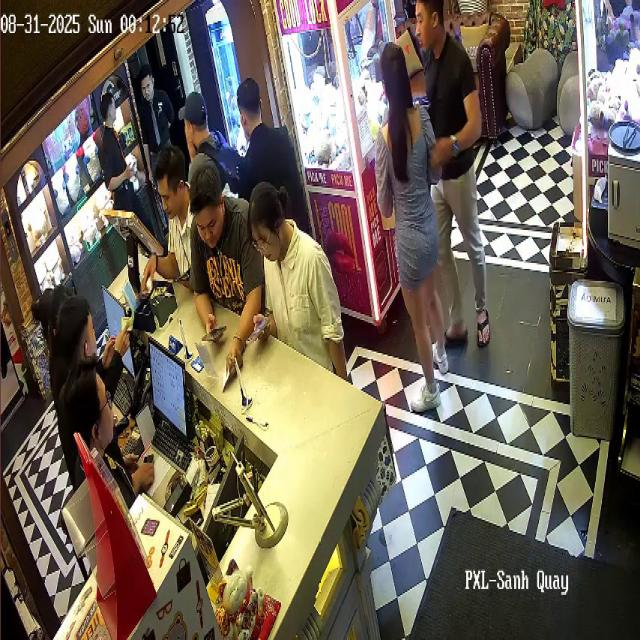khach: (410, 1, 505, 344), (370, 47, 454, 412), (248, 175, 356, 381), (183, 163, 269, 325), (146, 143, 198, 304), (176, 90, 230, 212)
nhan vien: (66, 367, 156, 541), (232, 64, 306, 226), (90, 90, 154, 269), (60, 292, 121, 445), (138, 56, 186, 186), (27, 264, 69, 376)
